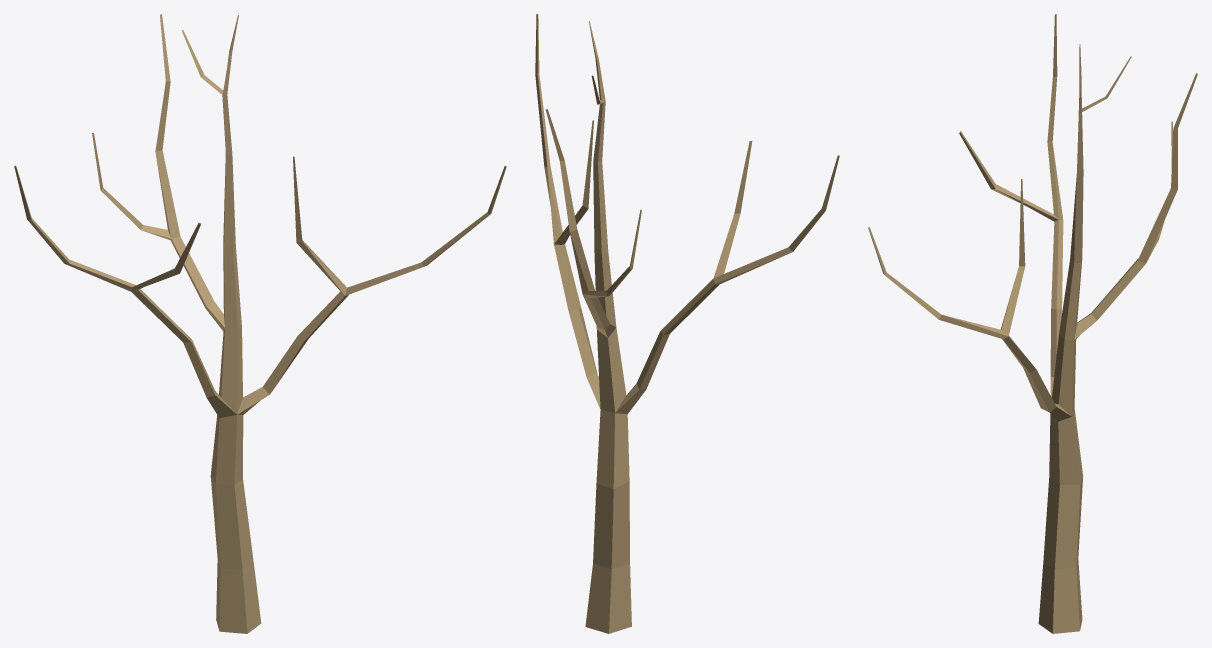
The model's file is Acacia_Tree_NoLeaves_l_BT_04.fbx.
3 renders of one model, left to right at view 1: azimuth 30°, elevation 25°; view 2: azimuth 150°, elevation 25°; view 3: azimuth 270°, elevation 25°, orthographic. The views are drawn at different scales.
Visible parts, largest first — view 1: Acacia_Tree_NoLeaves_l_BT_04; view 2: Acacia_Tree_NoLeaves_l_BT_04; view 3: Acacia_Tree_NoLeaves_l_BT_04.
Boxes of the visible parts, x1,y1,x2,y2 form: Acacia_Tree_NoLeaves_l_BT_04: (14,14,506,633); Acacia_Tree_NoLeaves_l_BT_04: (535,14,839,633); Acacia_Tree_NoLeaves_l_BT_04: (868,14,1197,633).
Size of the model in its own units: 821 by 1189 by 606.
